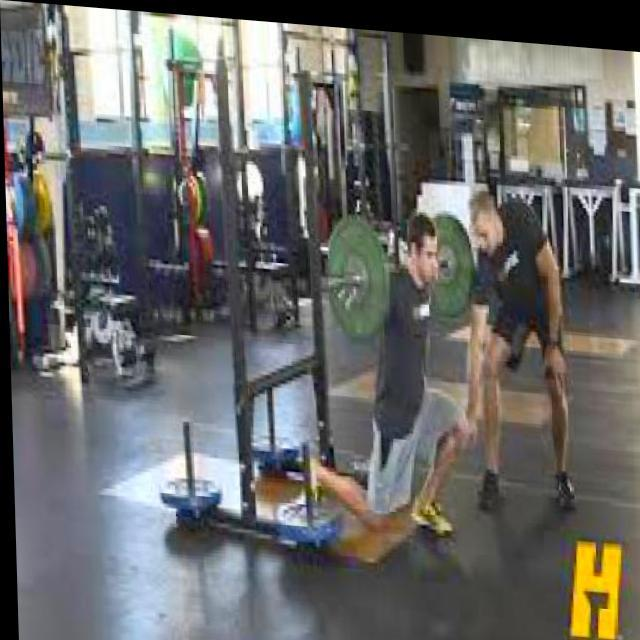barbell: (314, 204, 390, 342)
